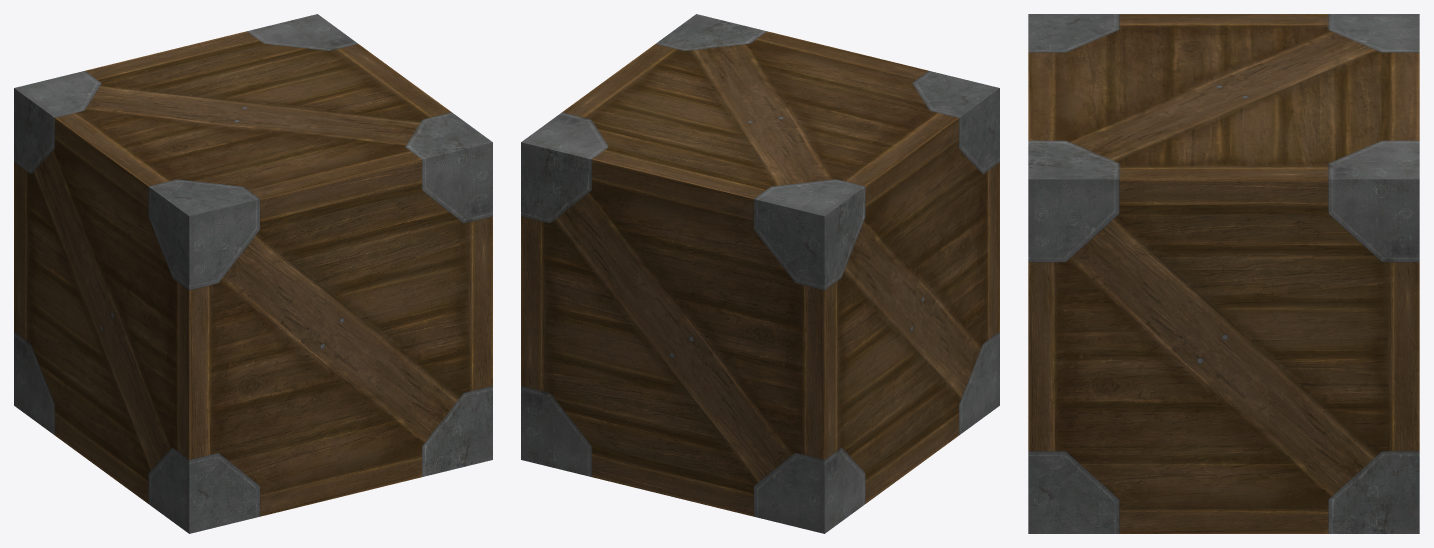
Rendered from CaixaGrandeDeMadeira01.fbx.
3 renders of one model, left to right at view 1: azimuth 30°, elevation 25°; view 2: azimuth 150°, elevation 25°; view 3: azimuth 270°, elevation 25°, orthographic. The views are drawn at different scales.
Visible parts, largest first — view 1: CaixaGrandeDeMadeira01, CaixaGrandeDeMadeira01Ferragem; view 2: CaixaGrandeDeMadeira01, CaixaGrandeDeMadeira01Ferragem; view 3: CaixaGrandeDeMadeira01, CaixaGrandeDeMadeira01Ferragem.
Part boxes in pixels (x1=…): CaixaGrandeDeMadeira01: x1=14, y1=31, x2=492, y2=516; CaixaGrandeDeMadeira01Ferragem: x1=14, y1=14, x2=492, y2=533; CaixaGrandeDeMadeira01: x1=521, y1=31, x2=999, y2=516; CaixaGrandeDeMadeira01Ferragem: x1=521, y1=14, x2=999, y2=533; CaixaGrandeDeMadeira01: x1=1028, y1=14, x2=1419, y2=533; CaixaGrandeDeMadeira01Ferragem: x1=1028, y1=14, x2=1419, y2=533.
Size of the model in its own units: 203 by 203 by 203.
